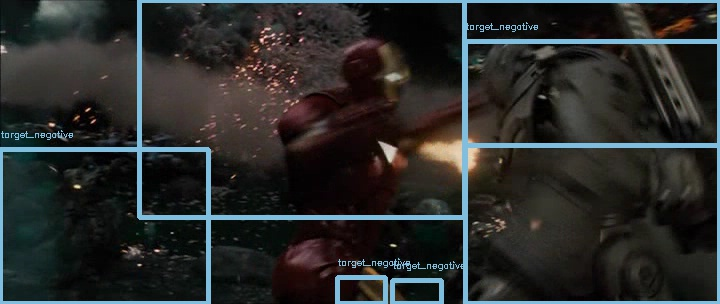person: (341, 44, 405, 103), (340, 44, 404, 103), (342, 44, 406, 103), (341, 43, 405, 102), (341, 45, 405, 104)
target_negative: (32, 179, 598, 282), (554, 9, 677, 216), (352, 210, 691, 228), (526, 236, 571, 304), (447, 128, 461, 211), (618, 53, 627, 122)
